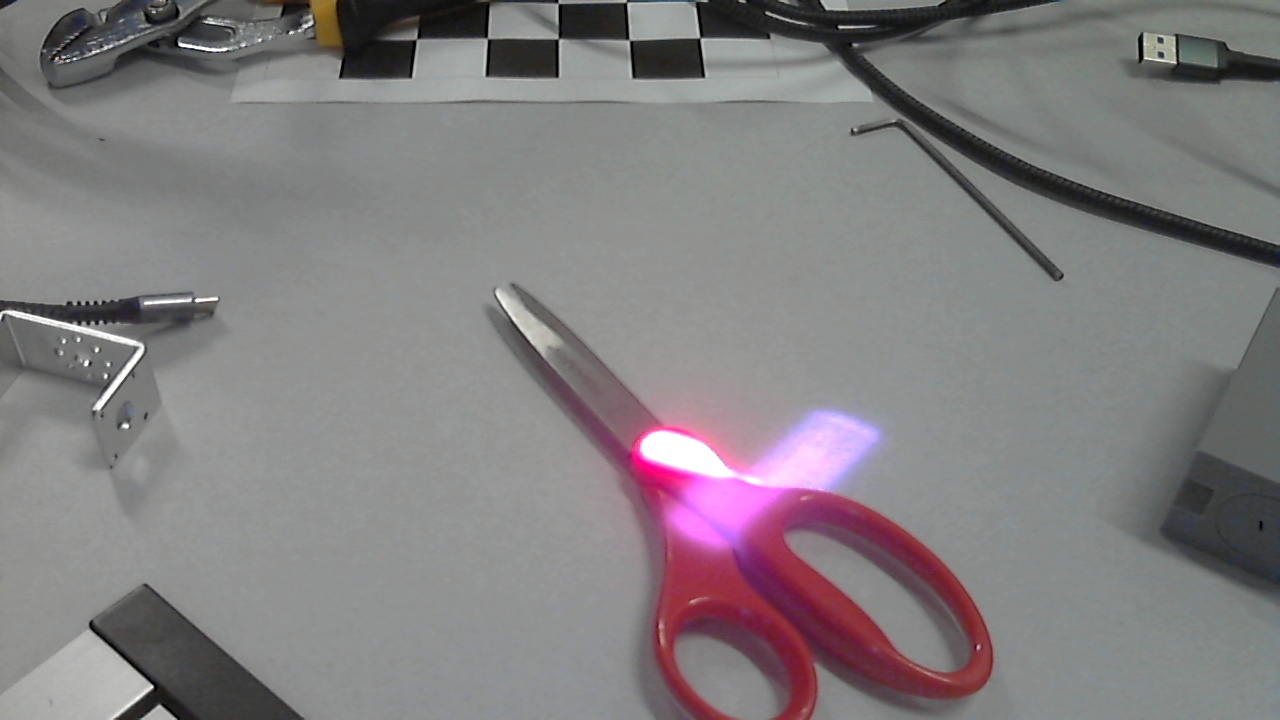Object retractable gel pen - Material rubber - Pdfname asdasdaswe: (620, 400, 785, 566)
